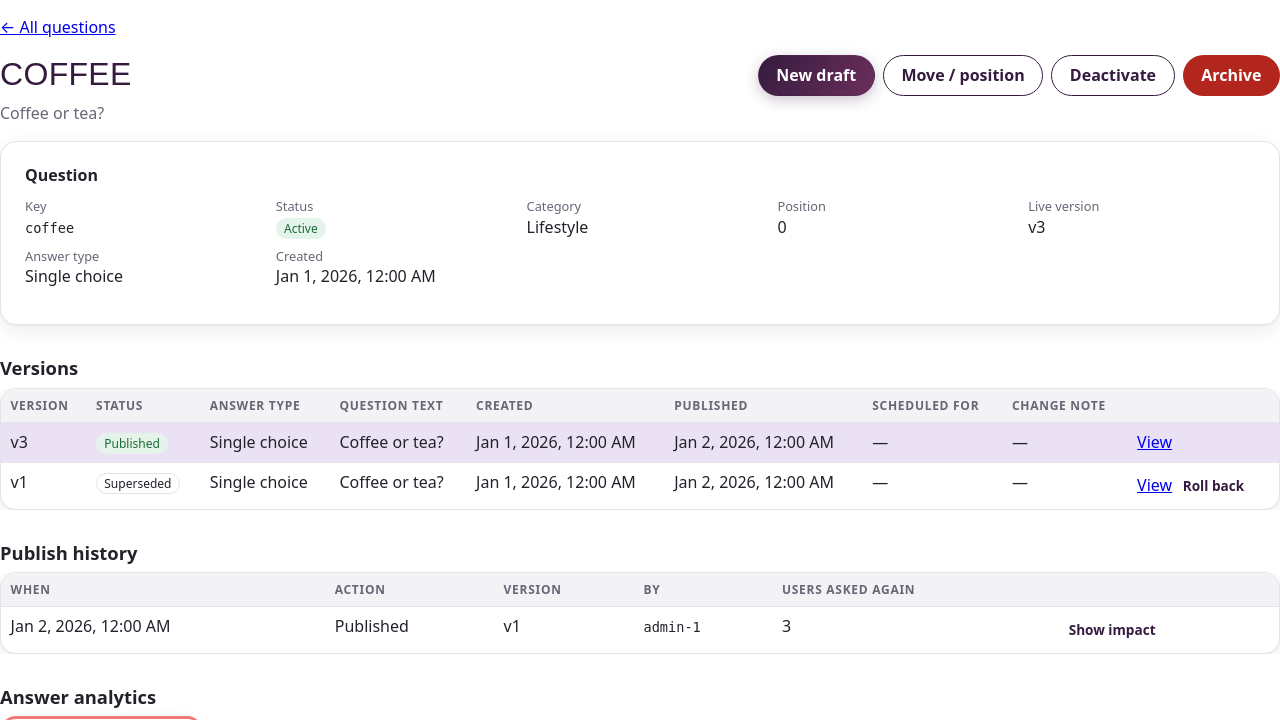
Test case: QuestionDetailPage › shows validation issues when the rollback target is no longer valid
Step 1. Click the button "Roll back" → (1213, 486), box [1172,471,1255,501]
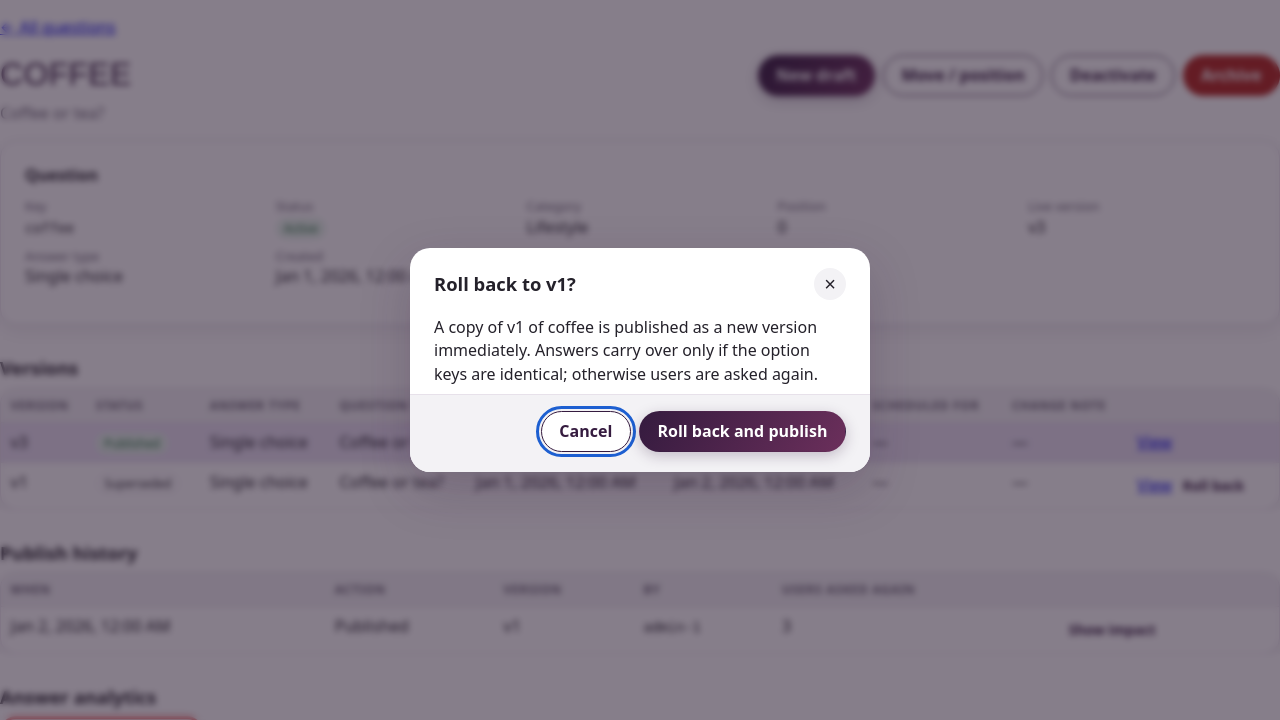
Step 2. Click the button "Roll back and publish" → (742, 431), box [639,411,846,452]
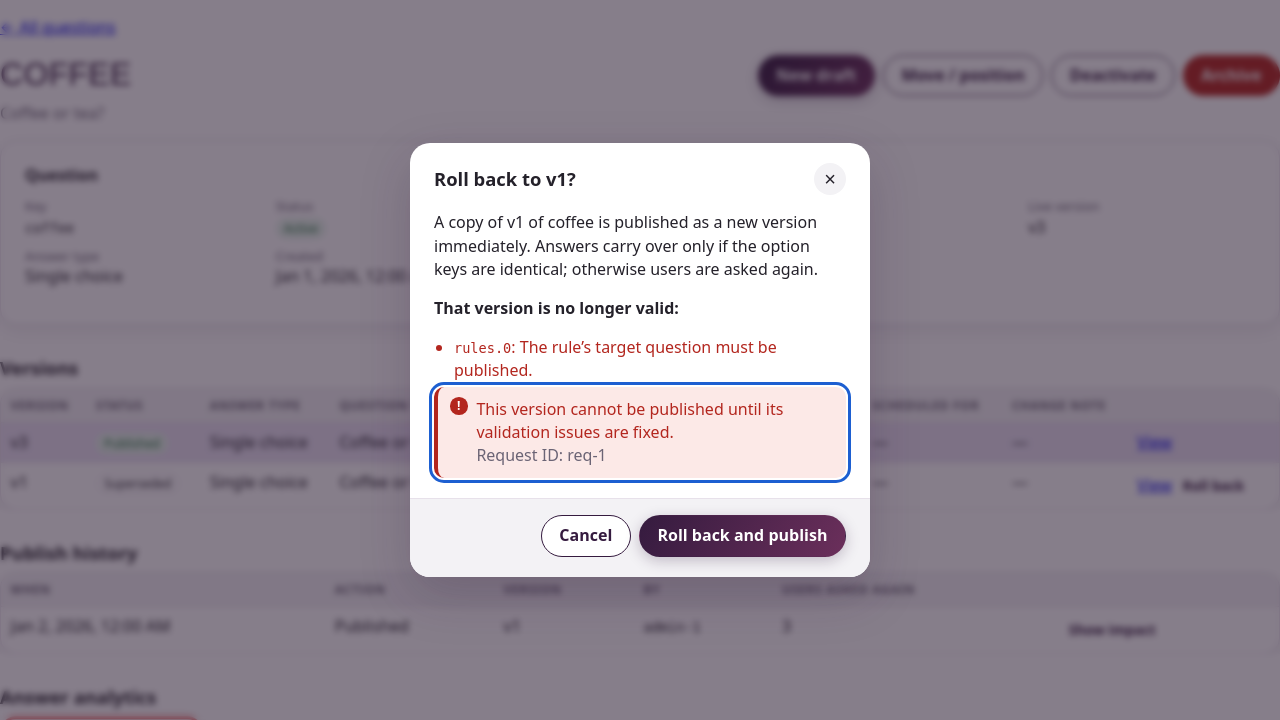
Expected: the list item "The rule’s target question must be published." is shown, [454,336,777,381]
